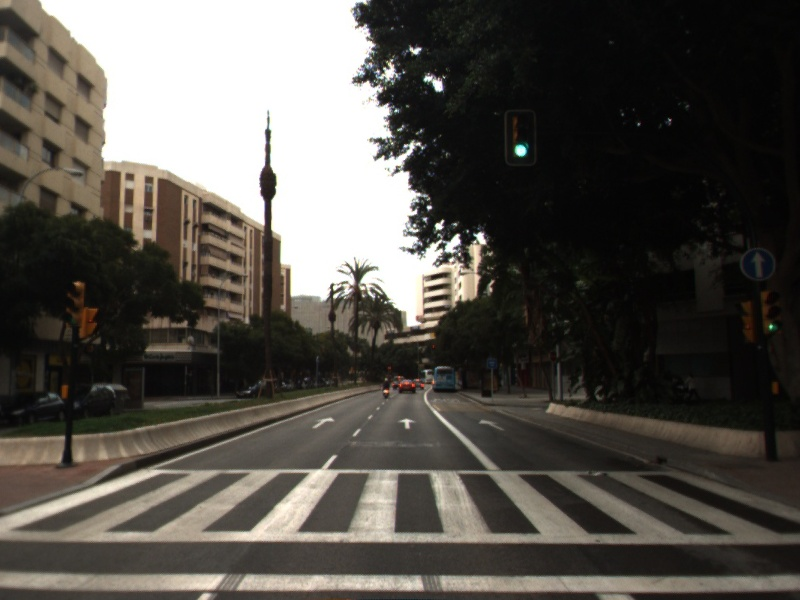STRAIGHT: (476, 417, 507, 432), (309, 415, 338, 431), (396, 416, 419, 431)
